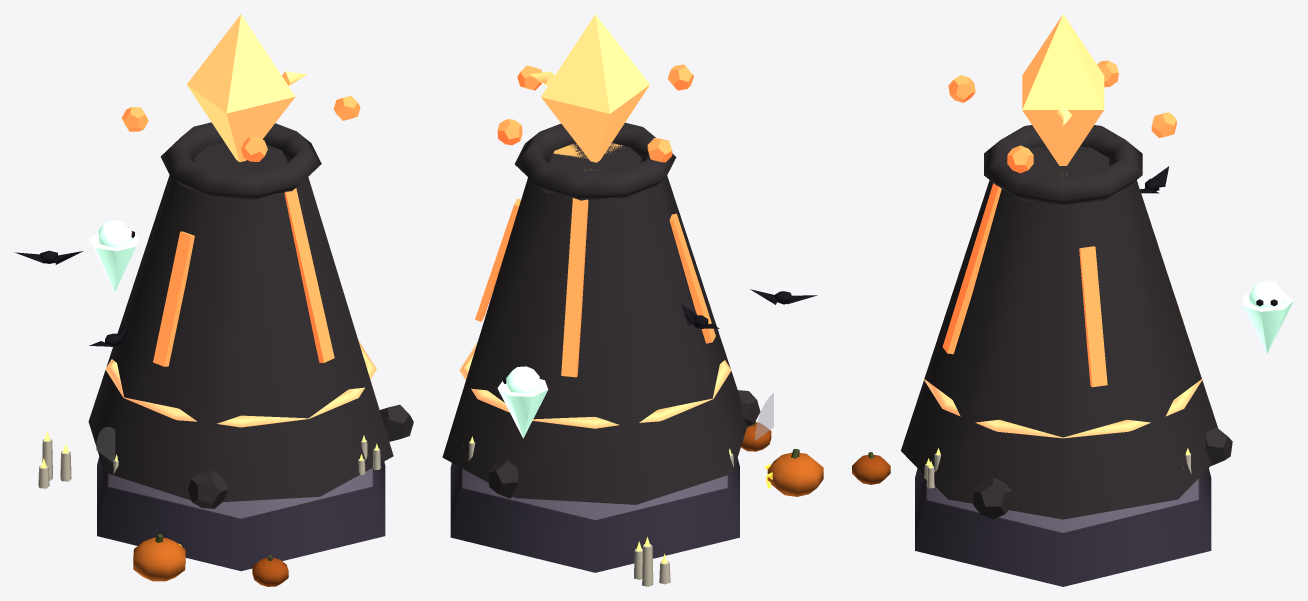
Rendered from tower_element_elementVolcano.glb.
3 views of the same model, side by side, from view 1: azimuth 30°, elevation 25°; view 2: azimuth 150°, elevation 25°; view 3: azimuth 270°, elevation 25° (orthographic). The views are drawn at different scales.
Visible parts, largest first — view 1: volcano, base, crystal, volcano_rim, base_top, lava_rivulet_0_flow, lava_rivulet_3_flow, volcano_band, deco_hw_jack_body, deco_hw_ghost_sheet, lava_rock_1, deco_hw_candles (+5 smaller); view 2: volcano, base, crystal, volcano_rim, lava_rivulet_2_flow, base_top, volcano_band, deco_hw_jack_body, lava_rivulet_3_flow, deco_hw_ghost_sheet, deco_hw_candles, lava_rivulet_1_flow (+8 smaller); view 3: volcano, base, crystal, volcano_rim, base_top, lava_rivulet_1_flow, lava_rivulet_0_flow, volcano_band, deco_hw_ghost_sheet, lava_rock_0, deco_hw_pumpkin_body, lava_rock_2 (+3 smaller).
Part boxes in pixels (x1,y1,x2,y2): volcano: (88, 142, 393, 502); base: (97, 457, 385, 571); crystal: (187, 14, 295, 162); volcano_rim: (160, 122, 321, 201); base_top: (109, 468, 372, 518); lava_rivulet_0_flow: (284, 188, 334, 362); lava_rivulet_3_flow: (153, 231, 194, 366); volcano_band: (105, 340, 376, 427); deco_hw_jack_body: (133, 537, 185, 581); deco_hw_ghost_sheet: (89, 233, 139, 292); lava_rock_1: (188, 471, 227, 508); deco_hw_candles: (38, 431, 71, 488); volcano: (442, 143, 747, 504); base: (450, 458, 739, 572); crystal: (541, 14, 649, 162); volcano_rim: (514, 122, 676, 200); lava_rivulet_2_flow: (561, 198, 588, 377); base_top: (463, 469, 727, 519); volcano_band: (459, 341, 731, 428); deco_hw_jack_body: (767, 452, 823, 496); lava_rivulet_3_flow: (669, 213, 715, 343); deco_hw_ghost_sheet: (497, 379, 548, 438); deco_hw_candles: (634, 537, 670, 586); lava_rivulet_1_flow: (475, 198, 520, 321); volcano: (901, 146, 1218, 519); base: (915, 468, 1211, 586); crystal: (1022, 14, 1104, 165); volcano_rim: (984, 125, 1142, 205); base_top: (927, 479, 1198, 532); lava_rivulet_1_flow: (1079, 246, 1107, 387); lava_rivulet_0_flow: (942, 183, 1001, 354); volcano_band: (923, 378, 1202, 438); deco_hw_ghost_sheet: (1242, 292, 1293, 353); lava_rock_0: (973, 477, 1012, 519); deco_hw_pumpkin_body: (852, 455, 890, 484); lava_rock_2: (1205, 427, 1232, 465).
Bounding box in the file's own units: 0.4482 × 0.629 × 0.5031.
